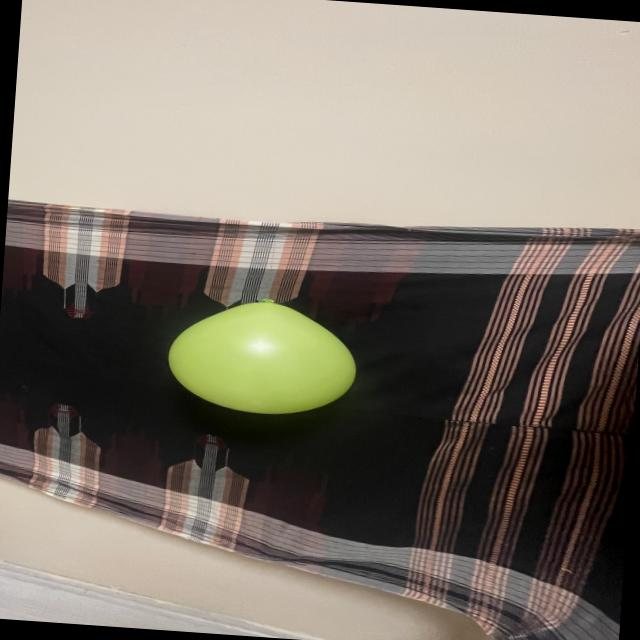balloon: (168, 299, 355, 414)
